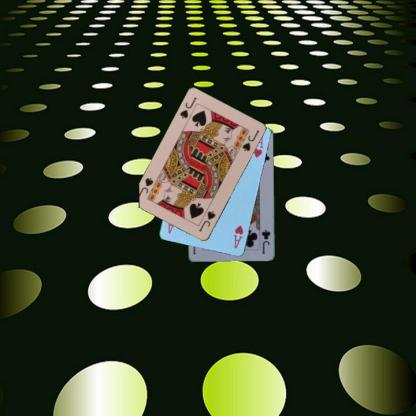Ah: (231, 223, 245, 250)
Jc: (259, 228, 271, 255)
Js: (196, 209, 217, 233), (178, 95, 198, 120)
